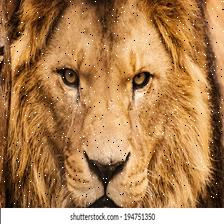Lion: (0, 0, 224, 207)
